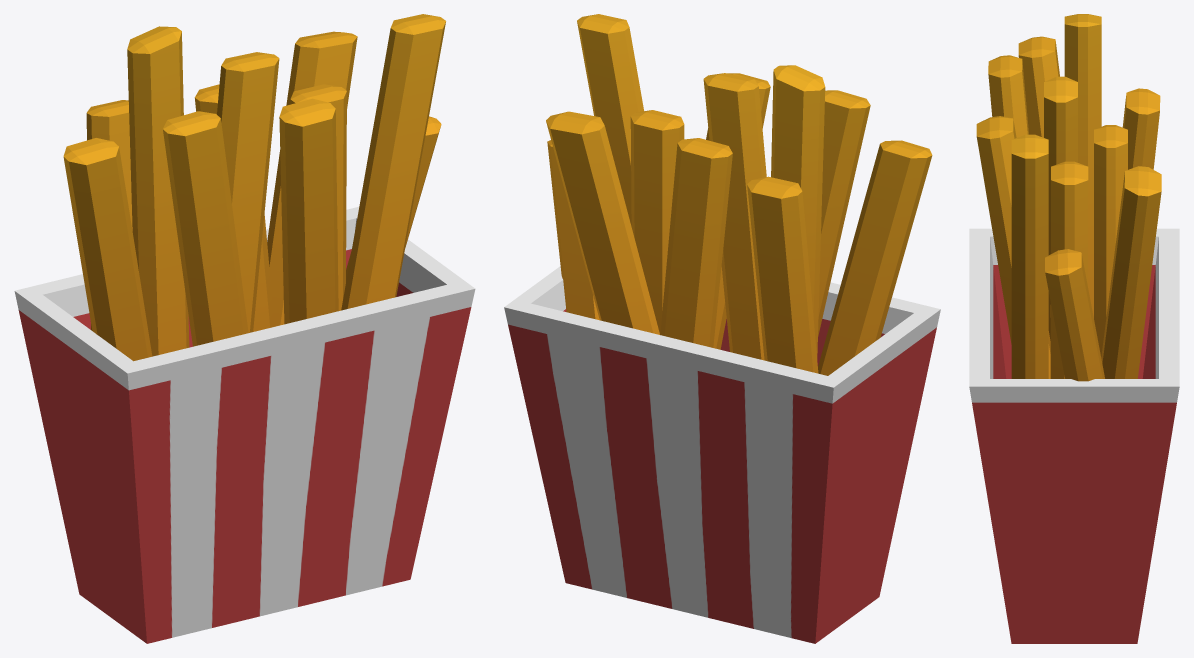
Rendered from Potato Fried.fbx.
3 views of the same model, side by side, from view 1: azimuth 30°, elevation 25°; view 2: azimuth 150°, elevation 25°; view 3: azimuth 270°, elevation 25° (orthographic). The views are drawn at different scales.
Parts seen in each view (by area): view 1: Potato Fried; view 2: Potato Fried; view 3: Potato Fried.
Part boxes in pixels (bbox=[...]): Potato Fried: bbox=[14, 14, 475, 643]; Potato Fried: bbox=[504, 14, 940, 643]; Potato Fried: bbox=[969, 14, 1179, 643].
Bounding box in the file's own units: 16.44 × 23.16 × 8.32.
